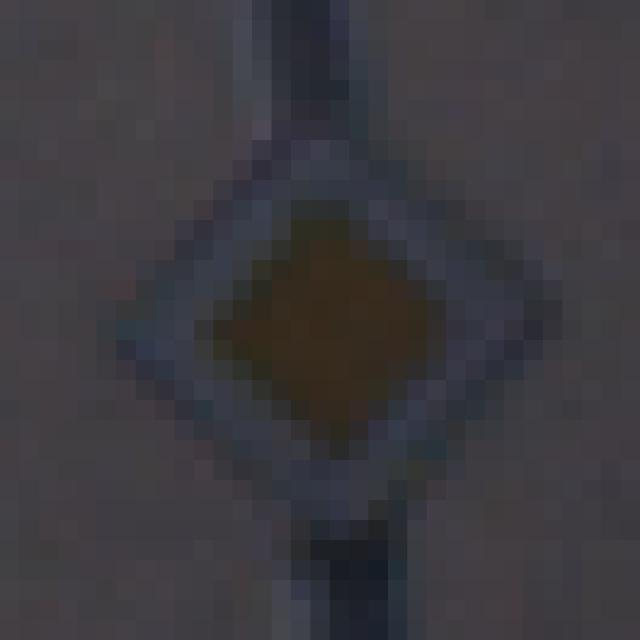Main Road: (117, 121, 544, 541)
